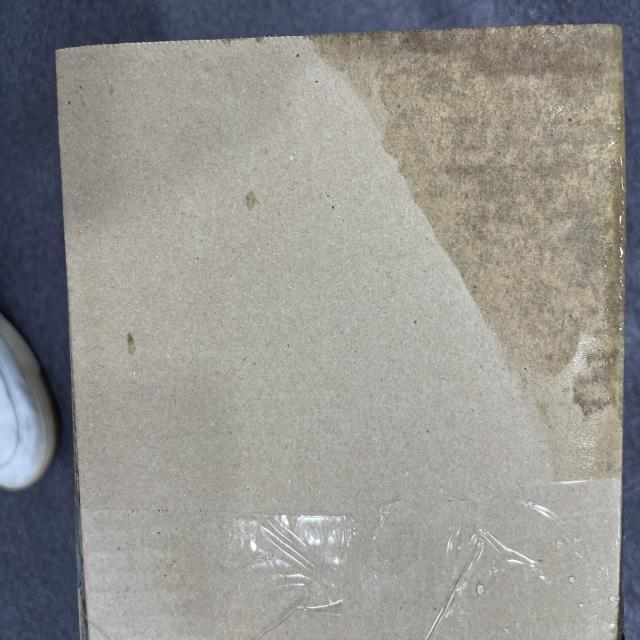wet: (313, 25, 624, 470)
